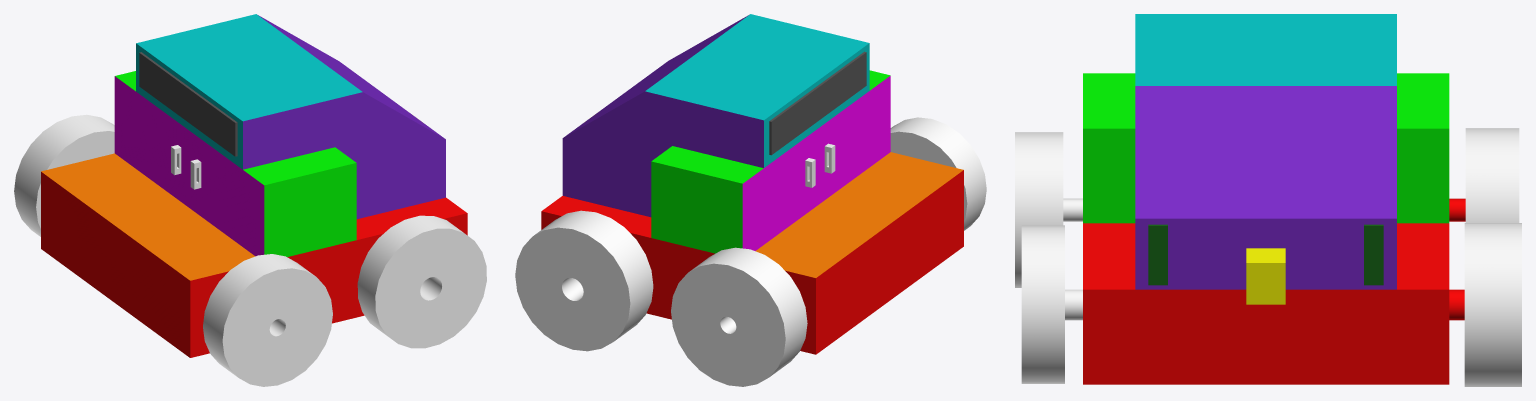
Rendered from Scipio.dae.
3 views of the same model, side by side, from view 1: azimuth 30°, elevation 25°; view 2: azimuth 150°, elevation 25°; view 3: azimuth 270°, elevation 25° (orthographic). The views are drawn at different scales.
Visible parts, largest first — view 1: SketchUp (×11); view 2: SketchUp (×11); view 3: SketchUp (×15).
Part boxes in pixels (x1=…): SketchUp (×11): x1=14, y1=14, x2=486, y2=386; SketchUp (×11): x1=515, y1=14, x2=986, y2=386; SketchUp (×15): x1=1015, y1=14, x2=1521, y2=386.
Bounding box in the file's own units: 32.69 × 38.75 × 23.67.
